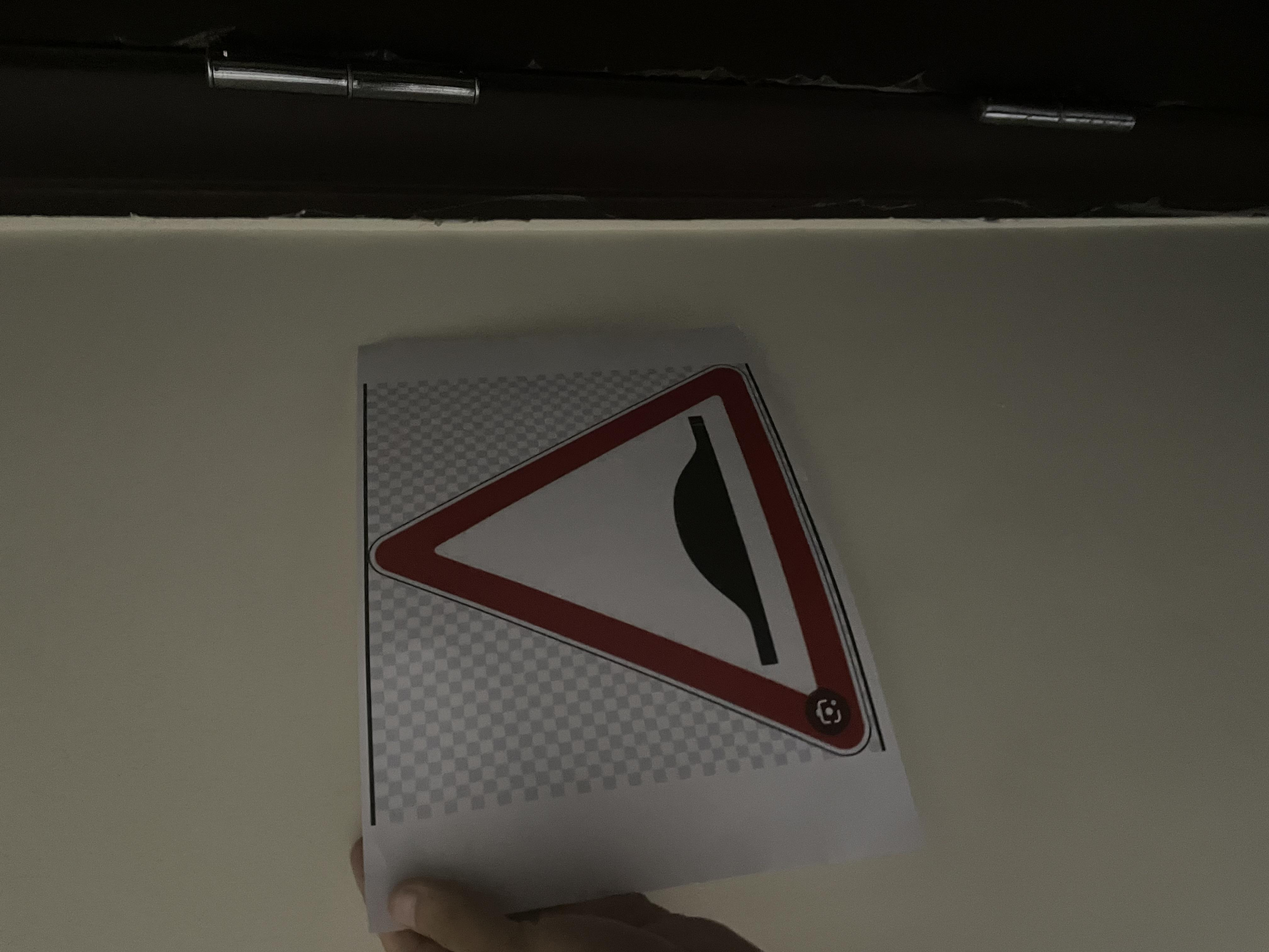Hump: (244, 274, 786, 653)
